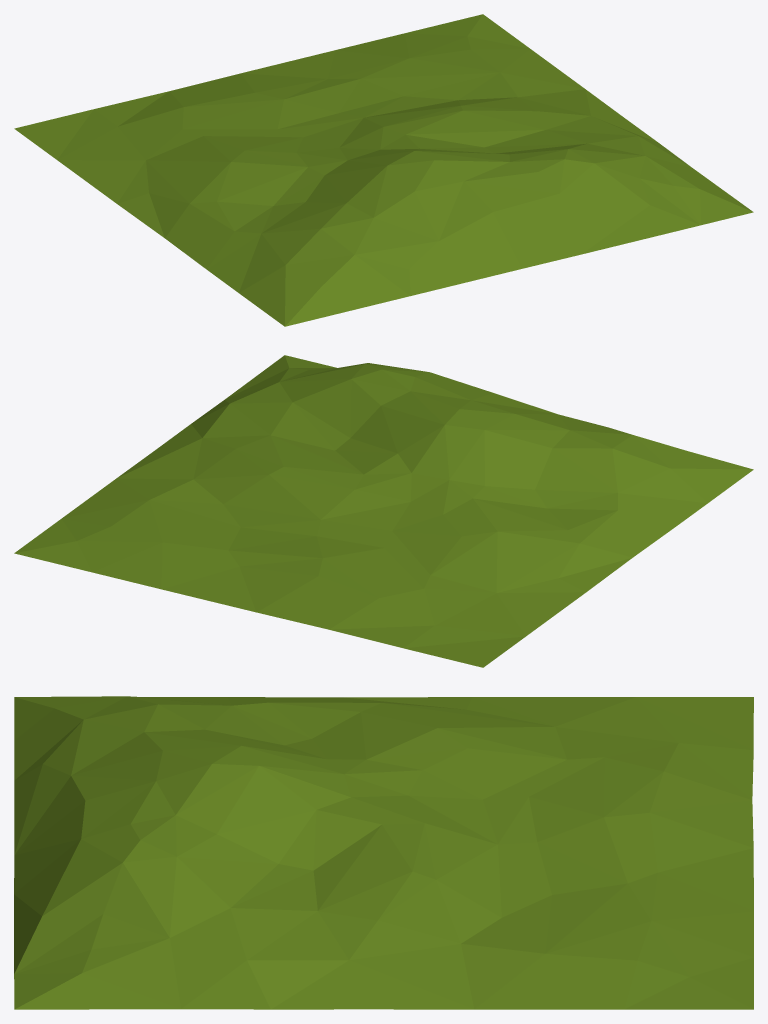
The model's file is Ground_A_02.fbx.
3 views of the same model, one above another, from view 1: azimuth 30°, elevation 25°; view 2: azimuth 150°, elevation 25°; view 3: azimuth 270°, elevation 25° (orthographic). The views are drawn at different scales.
Parts seen in each view (by area): view 1: Ground_A_02; view 2: Ground_A_02; view 3: Ground_A_02.
Boxes of the visible parts, x1=… form: Ground_A_02: x1=14, y1=14, x2=753, y2=326; Ground_A_02: x1=14, y1=355, x2=753, y2=667; Ground_A_02: x1=14, y1=696, x2=753, y2=1009.
Bounding box in the file's own units: 20 × 2.42 × 20.01.
